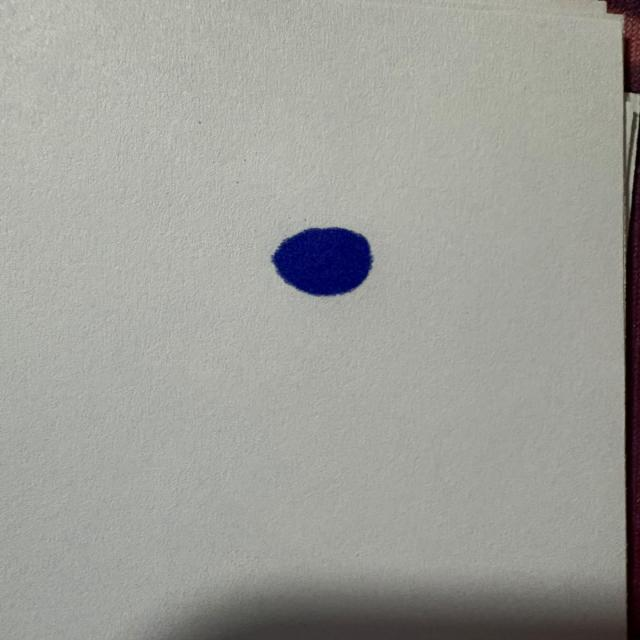Circle: (262, 222, 381, 300)
